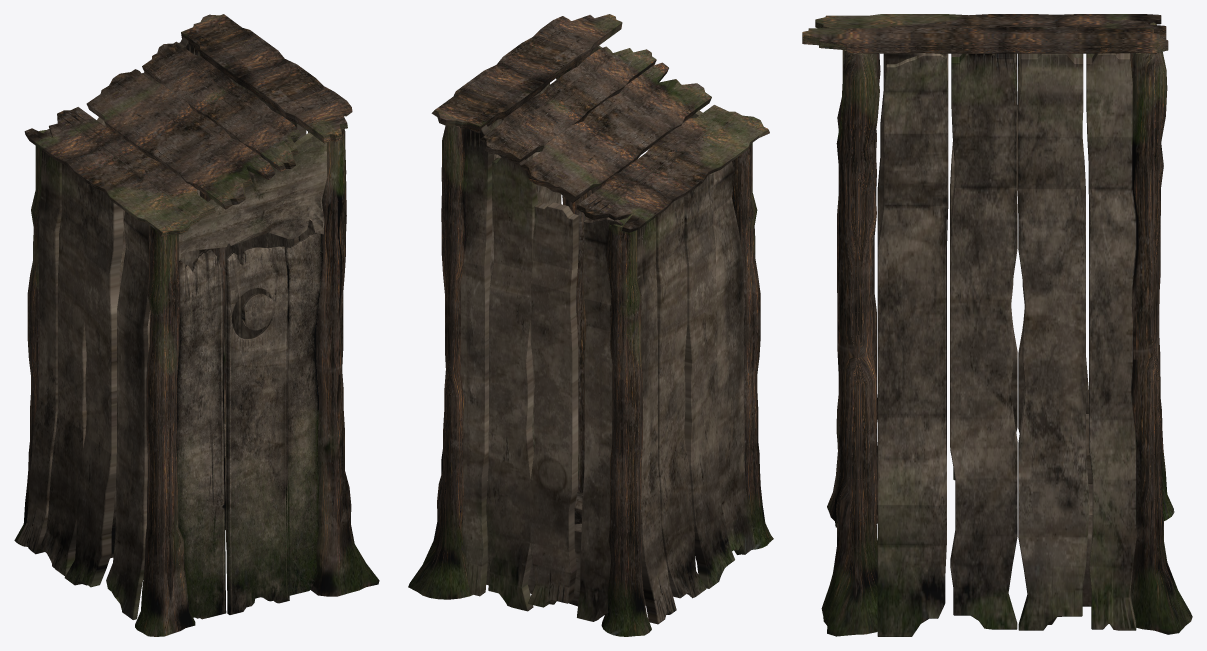
Rendered from toilet.obj.
The picture shows the model from 3 angles, left to right: view 1: azimuth 30°, elevation 25°; view 2: azimuth 150°, elevation 25°; view 3: azimuth 270°, elevation 25°; orthographic projection. The views are drawn at different scales.
Parts seen in each view (by area): view 1: toiled; view 2: toiled; view 3: toiled.
Boxes of the visible parts, bbox=[...] form: toiled: bbox=[14, 14, 379, 636]; toiled: bbox=[408, 14, 773, 636]; toiled: bbox=[802, 14, 1192, 636].
Bounding box in the file's own units: 1.75 × 3.33 × 2.03.
